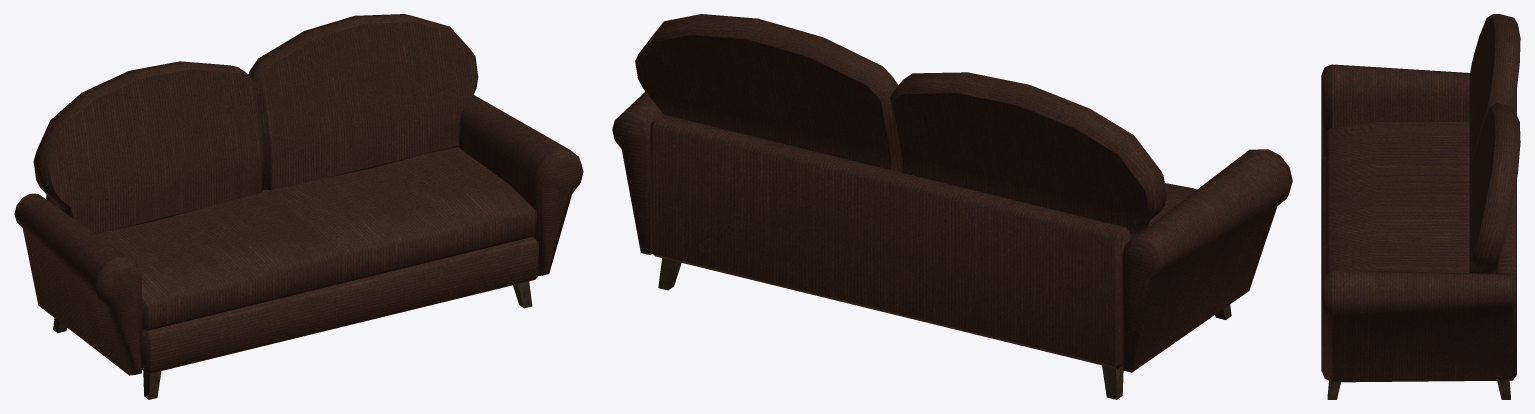
Rendered from sofa_2.obj.
3 views of the same model, side by side, from view 1: azimuth 30°, elevation 25°; view 2: azimuth 150°, elevation 25°; view 3: azimuth 270°, elevation 25° (orthographic). The views are drawn at different scales.
Visible parts, largest first — view 1: sofa_2; view 2: sofa_2; view 3: sofa_2.
Boxes of the visible parts, bbox=[...] form: sofa_2: bbox=[14, 14, 583, 399]; sofa_2: bbox=[612, 14, 1292, 399]; sofa_2: bbox=[1321, 14, 1520, 399].
Size of the model in its own units: 2.47 by 1.17 by 0.9157.
